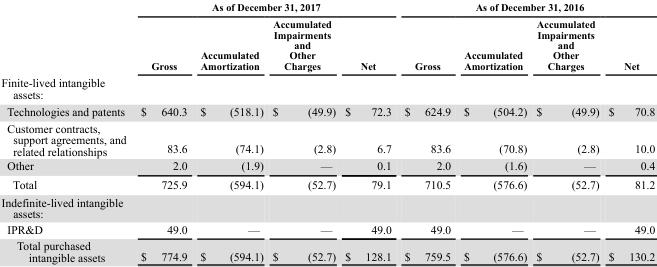table: (0, 1, 654, 263)
table column: (0, 1, 132, 263), (193, 1, 267, 263), (456, 1, 530, 263), (530, 1, 603, 263), (267, 1, 339, 263), (132, 1, 193, 263), (397, 1, 456, 263), (339, 1, 397, 263), (603, 1, 654, 263)
table column header: (0, 1, 654, 73)
table projected row header: (0, 73, 654, 102), (0, 193, 654, 220)
table row: (0, 15, 654, 73), (0, 119, 654, 158), (0, 73, 654, 102), (0, 193, 654, 220), (0, 237, 654, 263), (0, 174, 654, 193), (0, 102, 654, 119), (0, 220, 654, 237), (0, 158, 654, 174), (0, 1, 654, 15)
table spanning cell: (132, 1, 397, 15), (397, 1, 654, 15)
